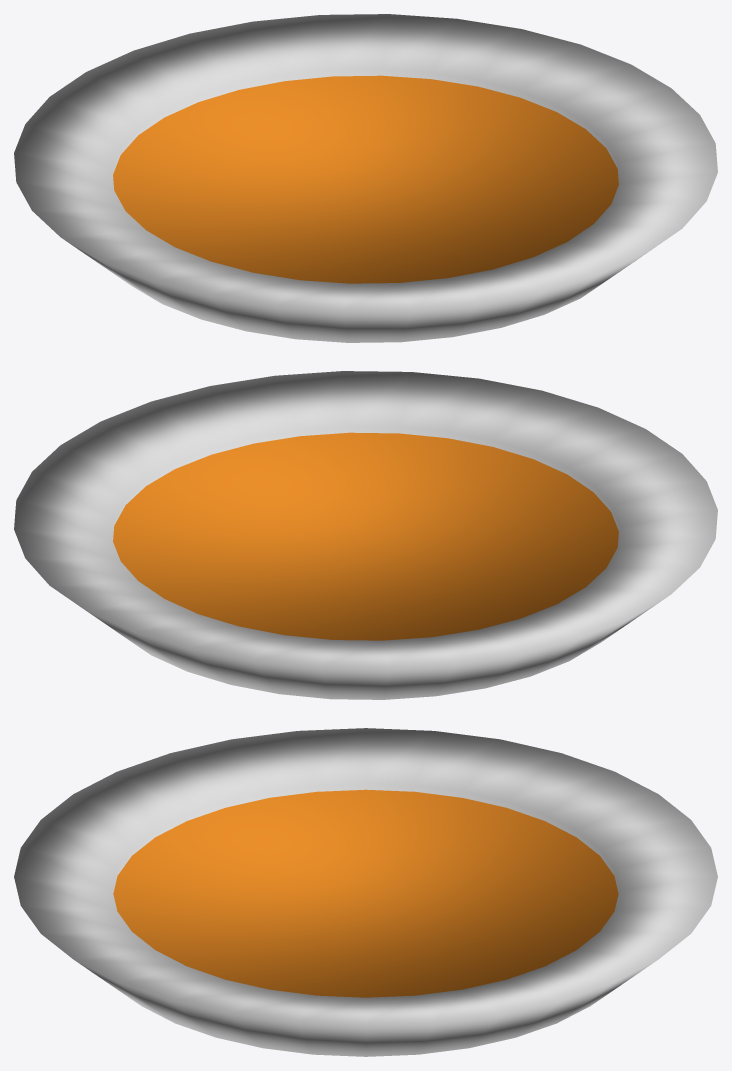
Rendered from OnionSoup.glb.
3 renders of one model, top to bottom at view 1: azimuth 30°, elevation 25°; view 2: azimuth 150°, elevation 25°; view 3: azimuth 270°, elevation 25°, orthographic.
Parts seen in each view (by area): view 1: Cylinder.032; view 2: Cylinder.032; view 3: Cylinder.032.
Boxes of the visible parts, bbox=[...] form: Cylinder.032: bbox=[14, 14, 717, 342]; Cylinder.032: bbox=[14, 371, 717, 699]; Cylinder.032: bbox=[14, 728, 717, 1056].
Size of the model in its own units: 0.7602 by 0.0786 by 0.7602.
